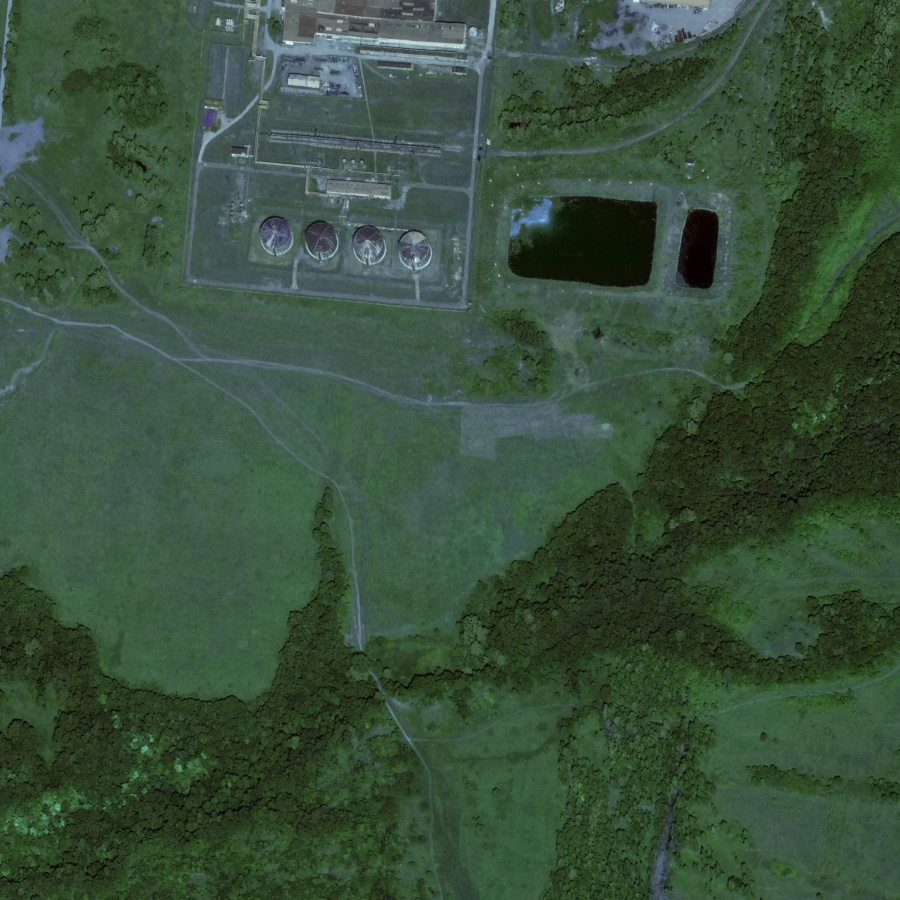PowerPlant: (253, 165, 464, 331), (498, 182, 732, 309)
